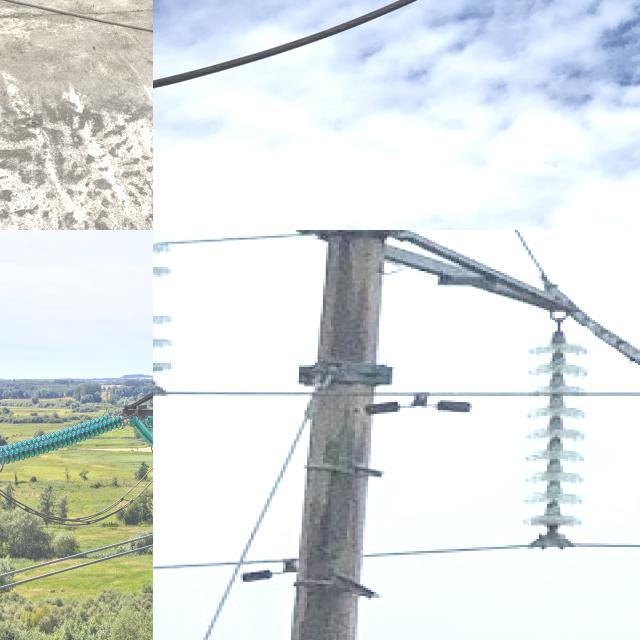正常电缆: (153, 0, 439, 106), (0, 518, 153, 603)
正常绝缘子: (516, 305, 591, 555), (0, 392, 145, 472), (113, 396, 153, 449)
